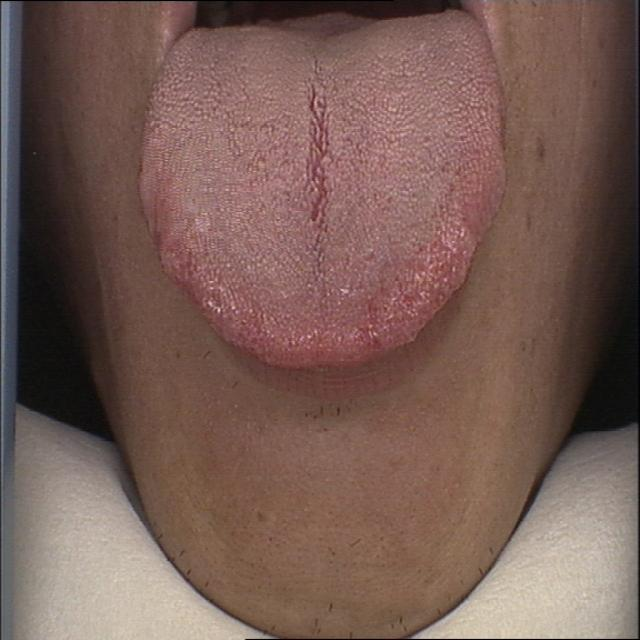tongue: (129, 24, 512, 372)
